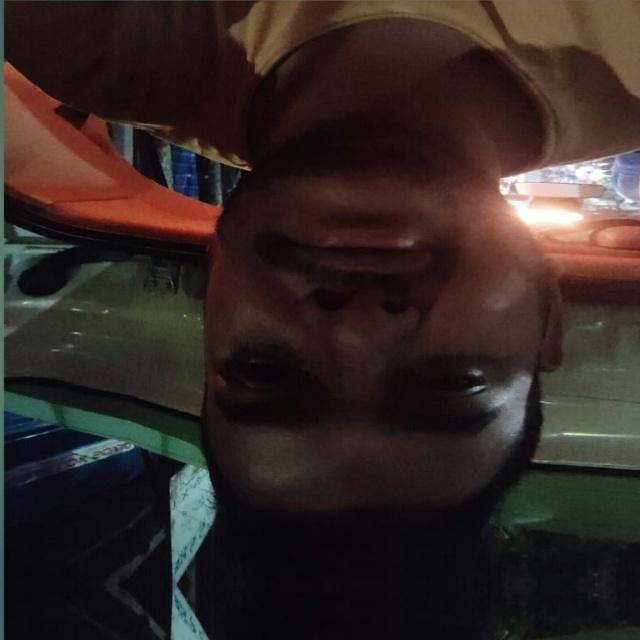Happy: (162, 102, 590, 585)
